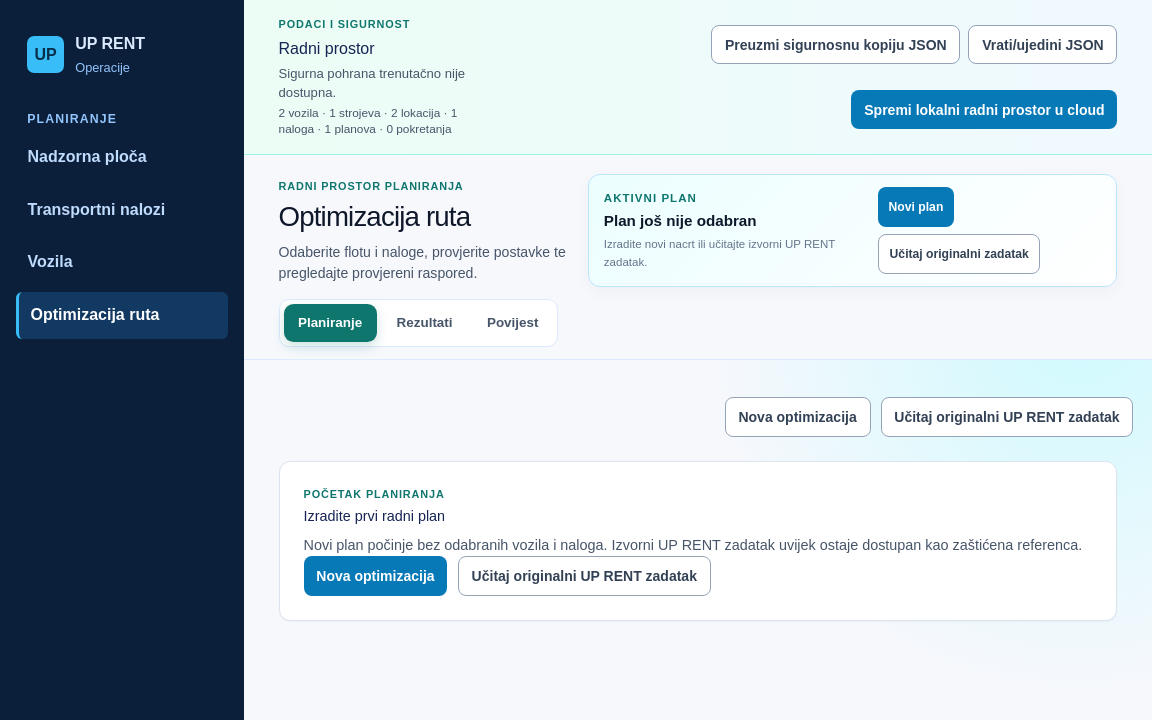
Scenario: OptimizerDashboard › shows an accessible backend failure and does not pretend a plan exists
Expected: the heading "Izradite prvi radni plan" is shown, [304,508,445,524]
What coordinates should you click on to do the following:
click the 1st button "Učitaj originalni UP RENT zadatak"
I would click on:
 (1007, 416)
Its box is [880,396,1134,436].
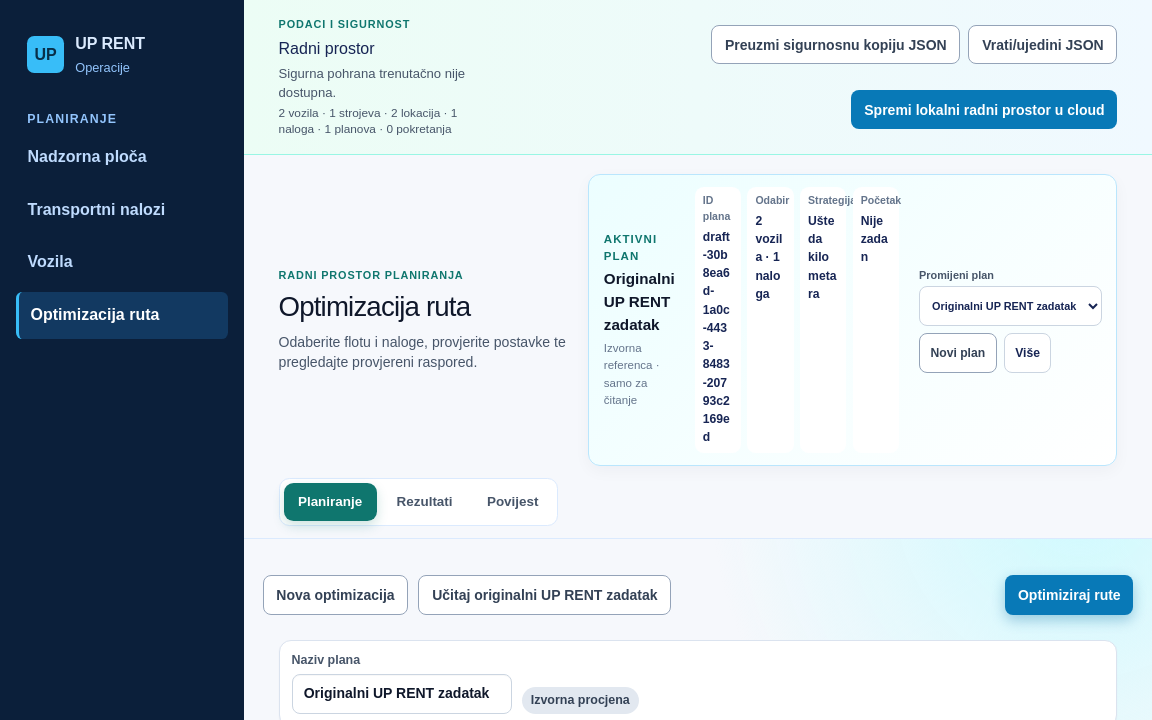
What coordinates should you click on to do the following:
click the button "Optimiziraj rute"
I would click on:
 (1069, 595)
Its box is [1005,575,1134,615].
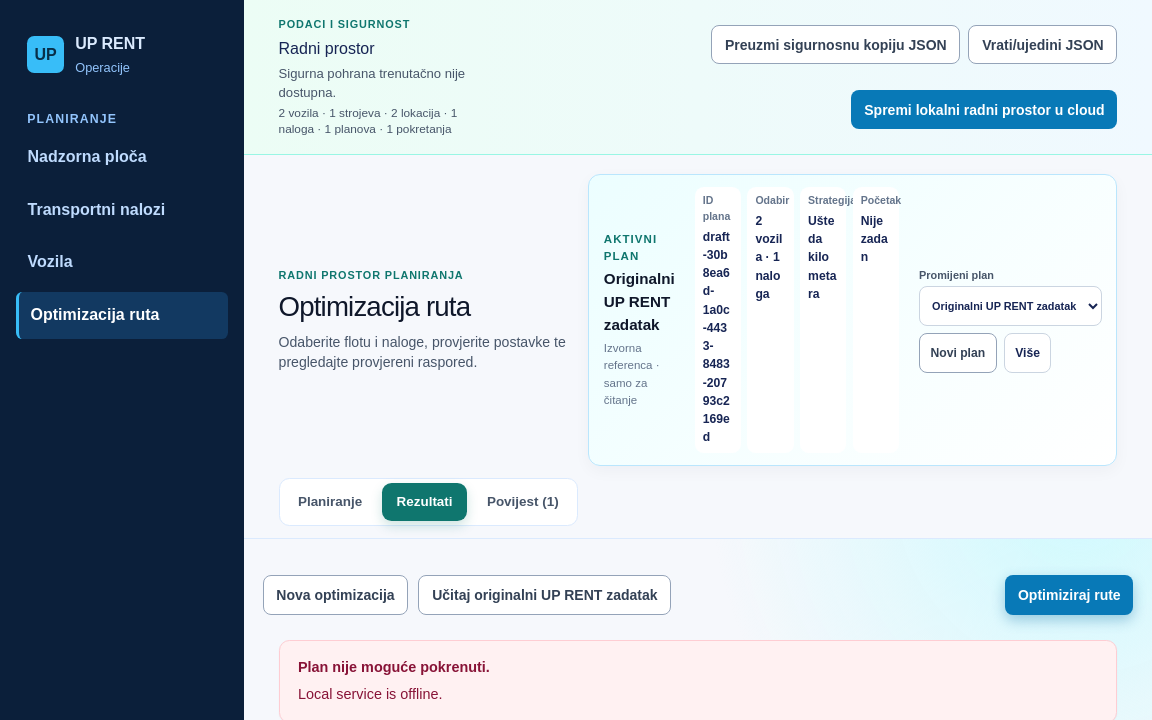
Now the message shows "Local service is offline", box [298,686,442,702]
